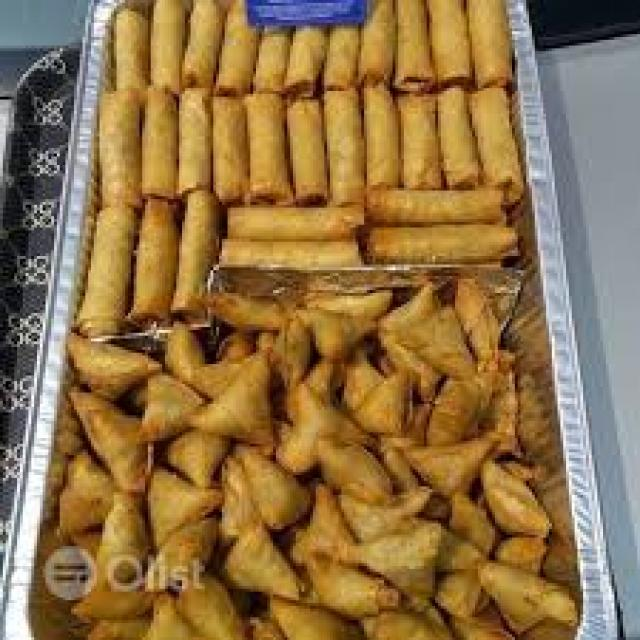Samosa: (63, 279, 580, 637)
Spring Rolls: (75, 0, 540, 283)
